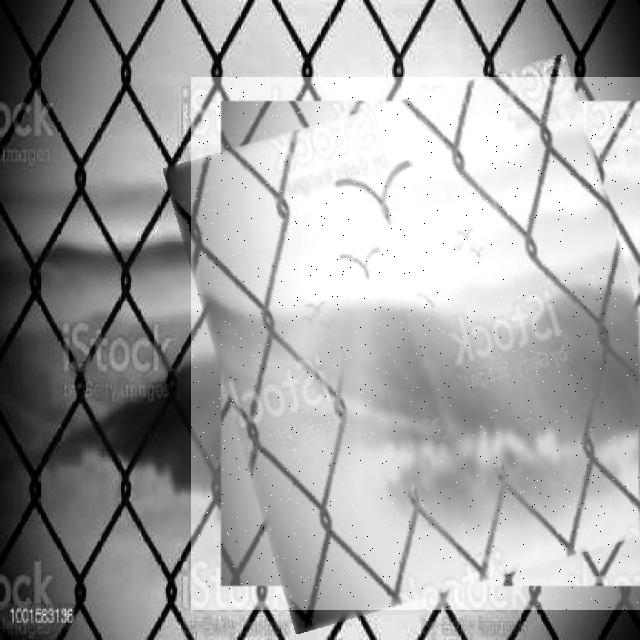anomaly-fence: (191, 77, 640, 610)
